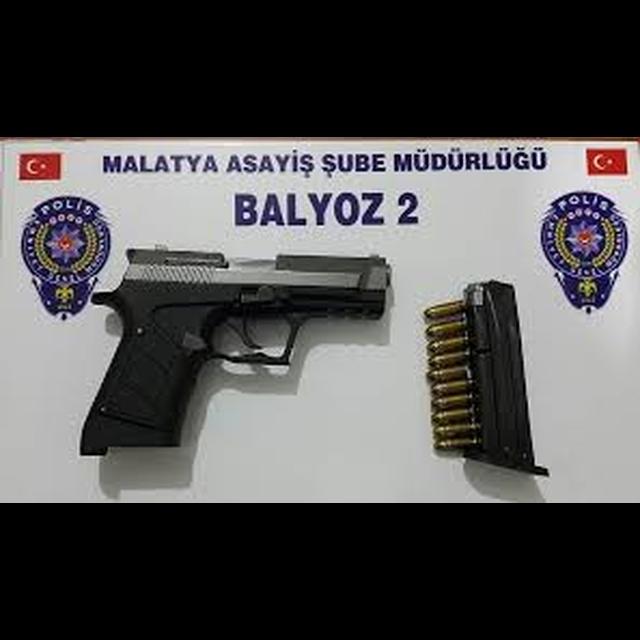SILAH: (85, 244, 396, 459)
